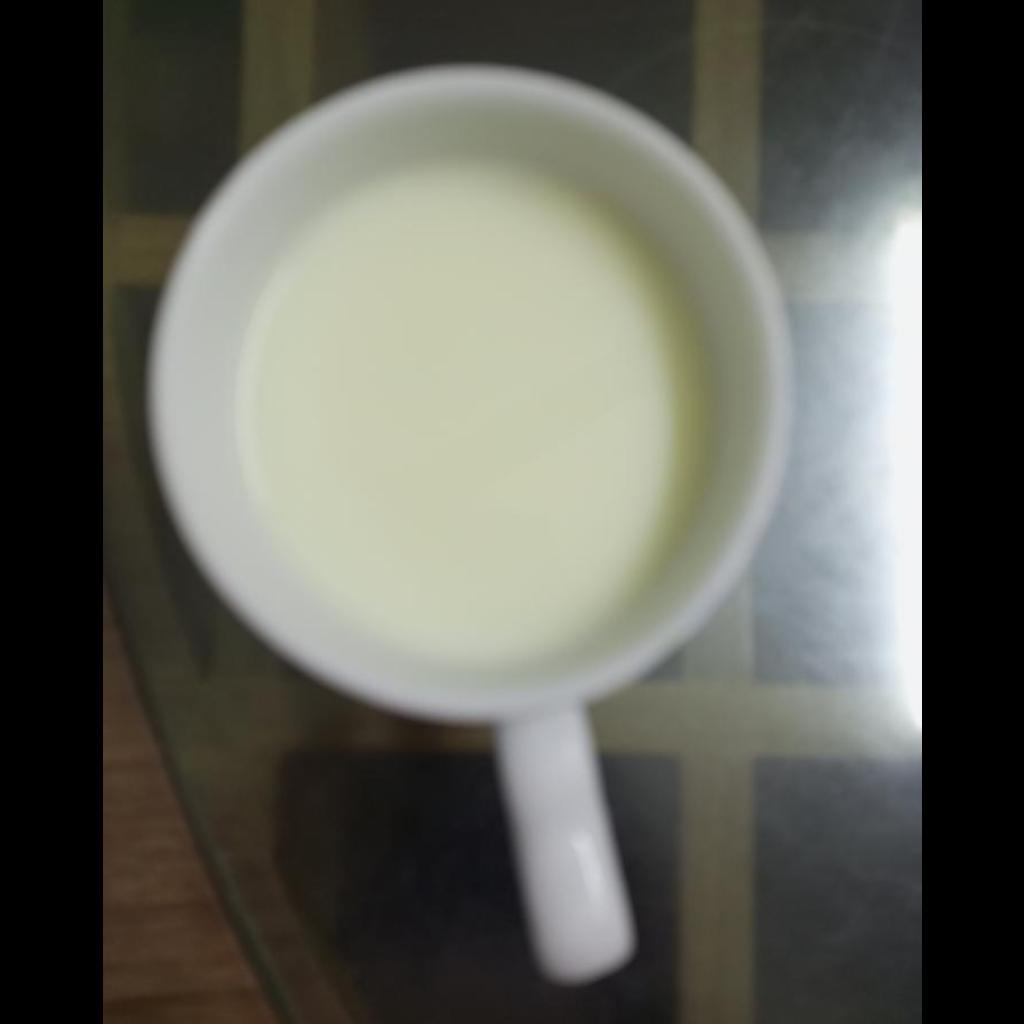milk: (231, 160, 711, 665)
